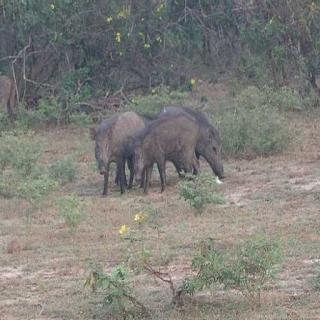Pig: (122, 106, 204, 186), (175, 94, 236, 184), (88, 108, 146, 191)
